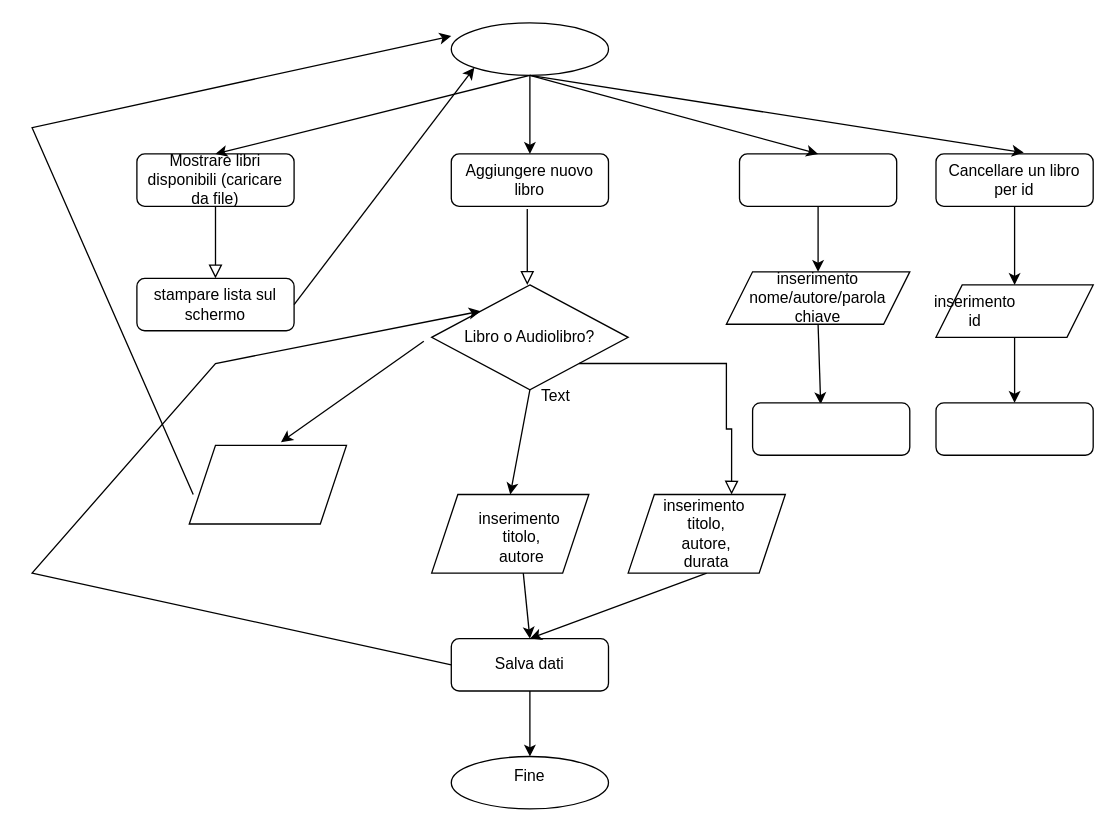
The diagram is 1116 pixels wide and 832 high, and some of its shapes have lost their labels. The centre of each missing label's shape, as x and y in pixels:
"Cercare libro per il nome" belongs at point (817, 179).
"Inizio" belongs at point (529, 48).
"Mostrare dati dei libri" belongs at point (830, 428).
"Mostrare dati del libro" belongs at point (1014, 428).
"Tornare in menu" belongs at point (267, 484).
